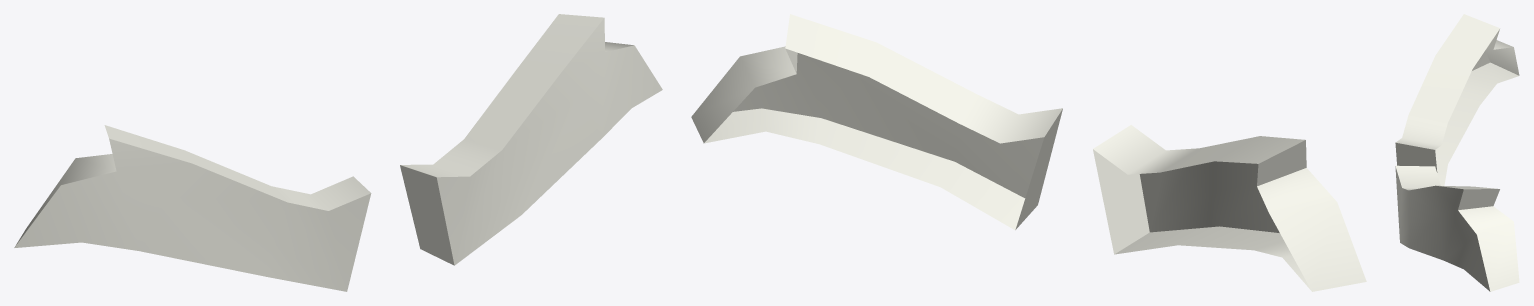
Rendered from Brow_White_7.fbx.
3 views of the same model, side by side, from view 1: azimuth 30°, elevation 25°; view 2: azimuth 150°, elevation 25°; view 3: azimuth 270°, elevation 25° (orthographic). The views are drawn at different scales.
Parts seen in each view (by area): view 1: Brow_White_7; view 2: Brow_White_7; view 3: Brow_White_7.
Boxes of the visible parts, <box> form: Brow_White_7: <box>14,14,662,291</box>; Brow_White_7: <box>691,14,1366,291</box>; Brow_White_7: <box>1395,14,1519,291</box>.
Bounding box in the file's own units: 38.5 × 9.68 × 8.8.
